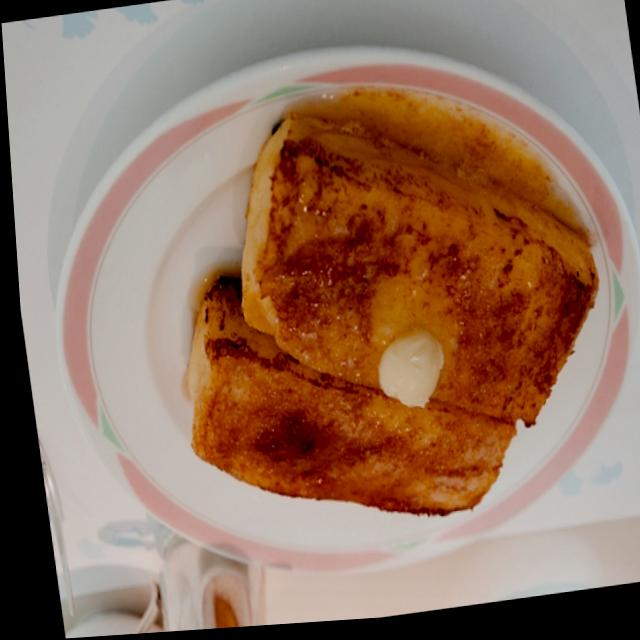面包点心: (55, 17, 640, 594)
